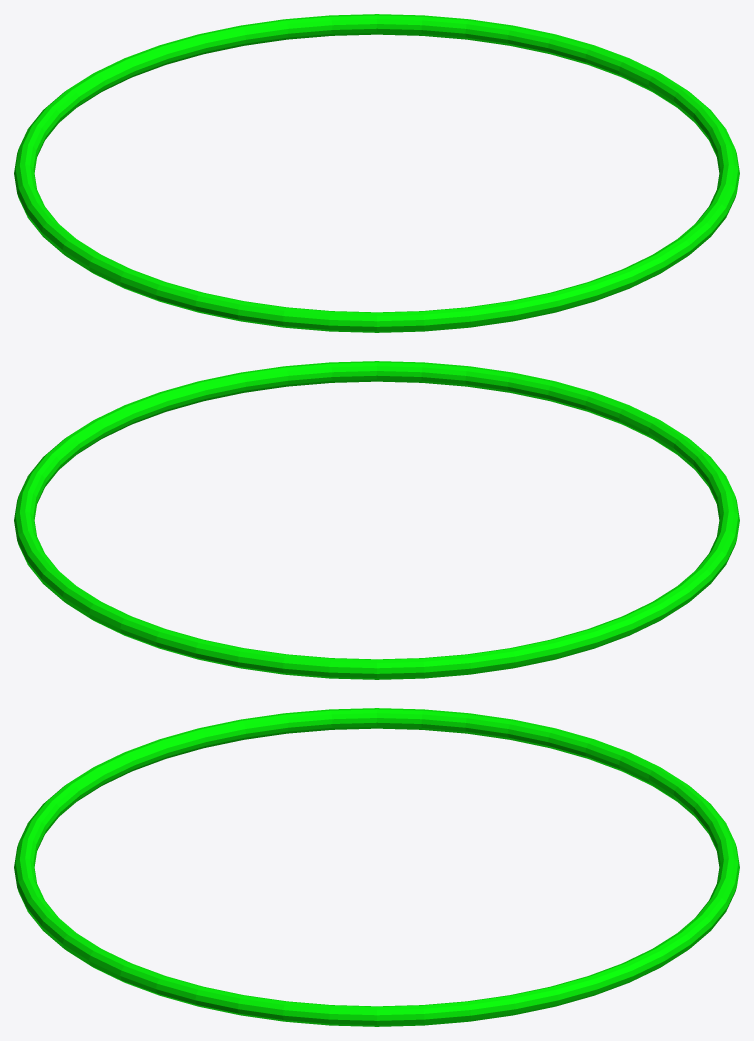
File: green_ring.obj
3 views of the same model, one above another, from view 1: azimuth 30°, elevation 25°; view 2: azimuth 150°, elevation 25°; view 3: azimuth 270°, elevation 25° (orthographic).
Visible parts, largest first — view 1: Torus; view 2: Torus; view 3: Torus.
Part boxes in pixels (x1=…): Torus: x1=14, y1=14, x2=739, y2=332; Torus: x1=14, y1=361, x2=739, y2=679; Torus: x1=14, y1=708, x2=739, y2=1026.
Bounding box in the file's own units: 2.06 × 0.0585 × 2.06.
